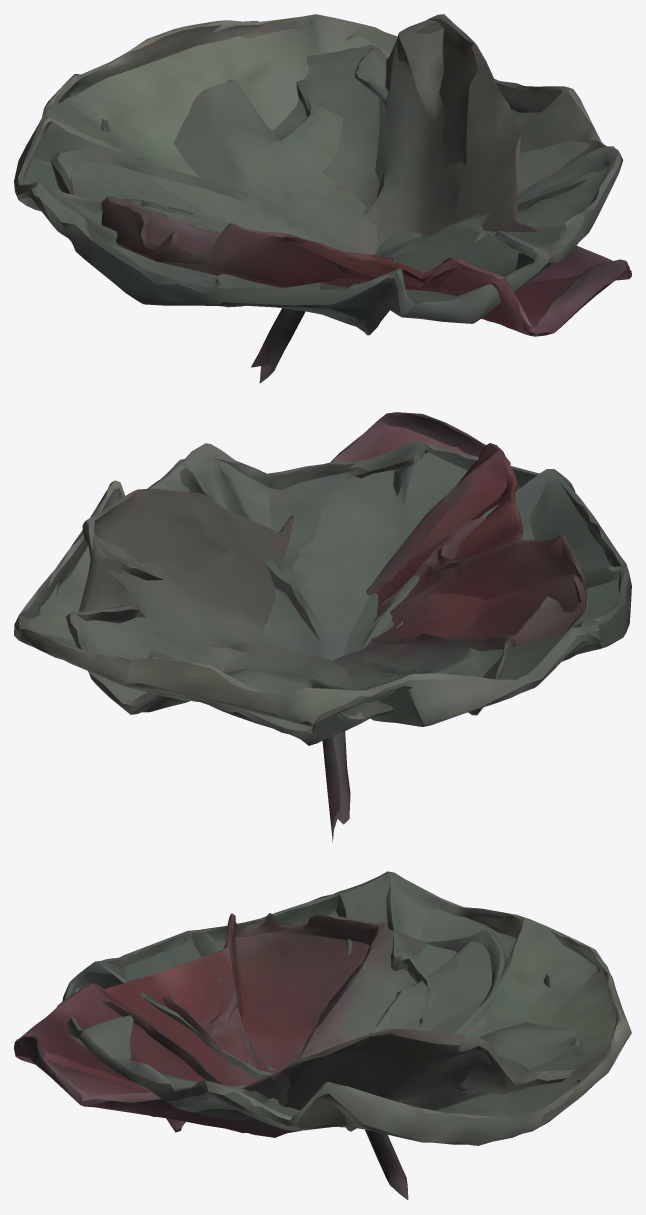
The model's file is original_fan_leaves_v11.glb.
3 renders of one model, top to bottom at view 1: azimuth 30°, elevation 25°; view 2: azimuth 150°, elevation 25°; view 3: azimuth 270°, elevation 25°, orthographic. The views are drawn at different scales.
Visible parts, largest first — view 1: Original_Fan_Leaf_5, Original_Fan_Leaf_6; view 2: Original_Fan_Leaf_5, Original_Fan_Leaf_6; view 3: Original_Fan_Leaf_5, Original_Fan_Leaf_6.
Boxes of the visible parts, <box> form: Original_Fan_Leaf_5: <box>50,14,631,336</box>; Original_Fan_Leaf_6: <box>14,14,623,383</box>; Original_Fan_Leaf_5: <box>66,412,586,745</box>; Original_Fan_Leaf_6: <box>14,440,631,842</box>; Original_Fan_Leaf_5: <box>14,913,579,1137</box>; Original_Fan_Leaf_6: <box>62,871,631,1199</box>.
Bounding box in the file's own units: 1.62 × 0.8962 × 1.93.
1 material, 1 textured.
